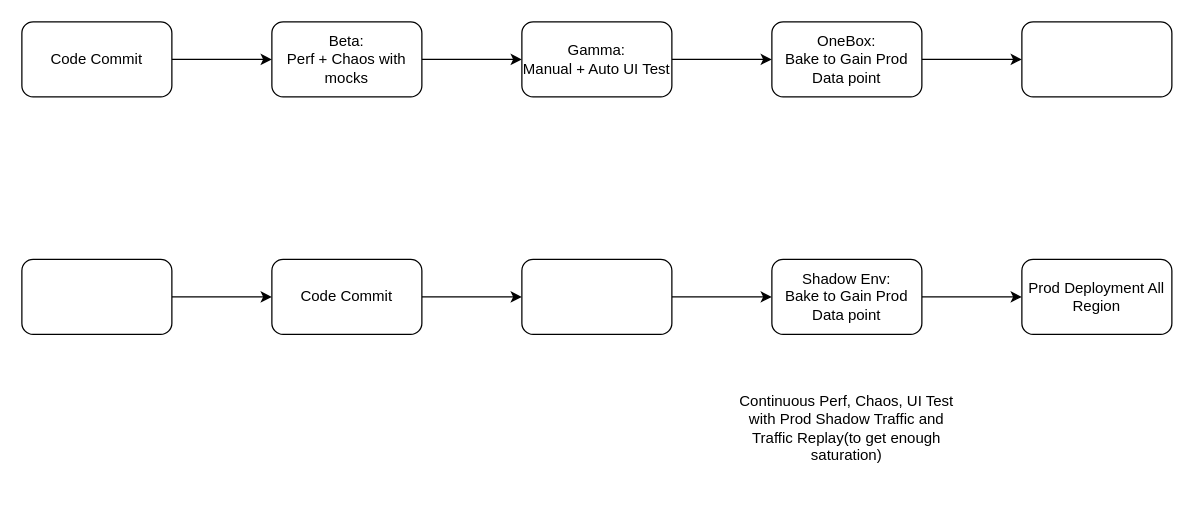
The diagram is 1194 pixels wide and 531 high, and some of its shapes have lost their labels. Here are the shapes that lost their labels. From the top down, the centre of each, then its label:
the point at 1096,59: Regional Deployment
the point at 96,296: CR: Auto Perf/Chaos Test, Auto Modularized UI Test
the point at 596,296: Gamma: Light Weight Auto UI Sanity Test
